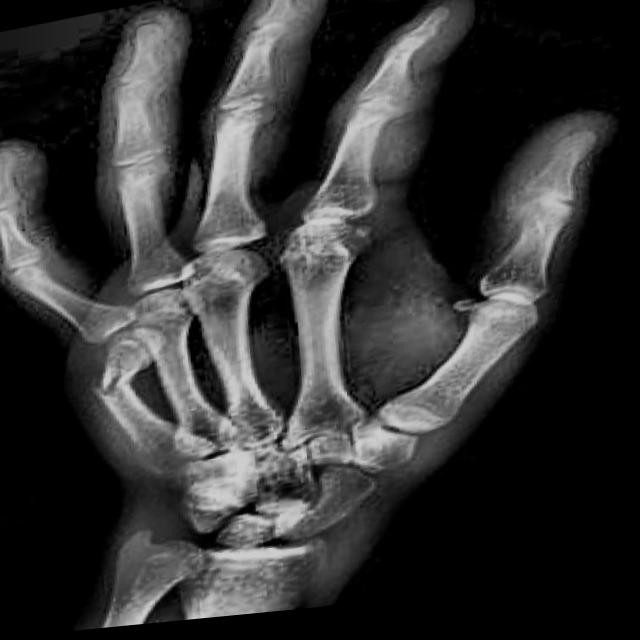fracture: (93, 359, 152, 409)
